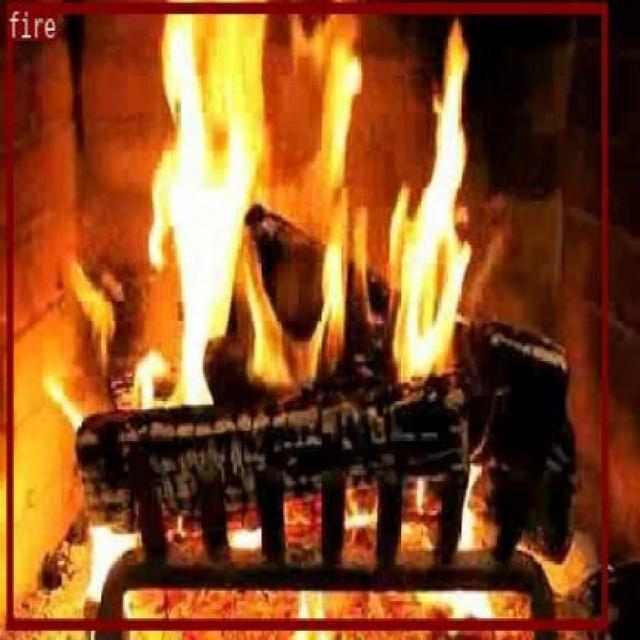Fire: (6, 2, 606, 627)
